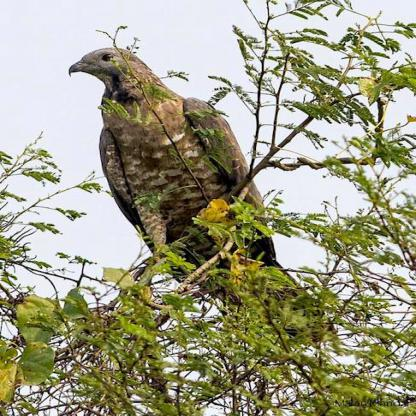Burung: (66, 45, 301, 312)
